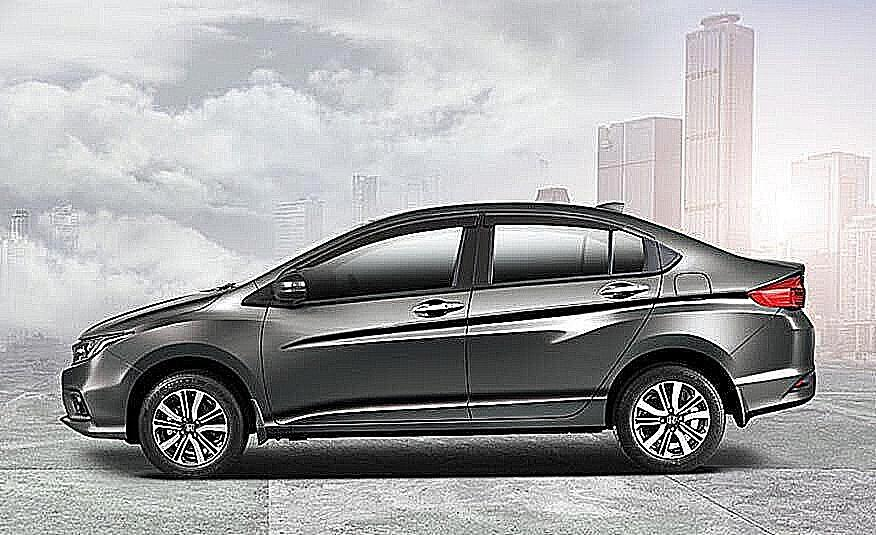Car hood: (74, 286, 226, 344)
Fender - -F-L-: (104, 277, 273, 430)
Fender - -R-L-: (592, 264, 781, 403)
Front bumper: (57, 348, 146, 454)
Headlight - -L-: (68, 325, 137, 372)
Passenger-s door - -F-L-: (262, 210, 473, 426)
Passenger-s door - -R-L-: (468, 213, 663, 426)
Rear bumper: (721, 308, 827, 431)
Rear light - -L-: (742, 265, 810, 315)
Side bumper - -L-: (243, 394, 615, 446)
Side mirror - -L-: (257, 272, 313, 310)
